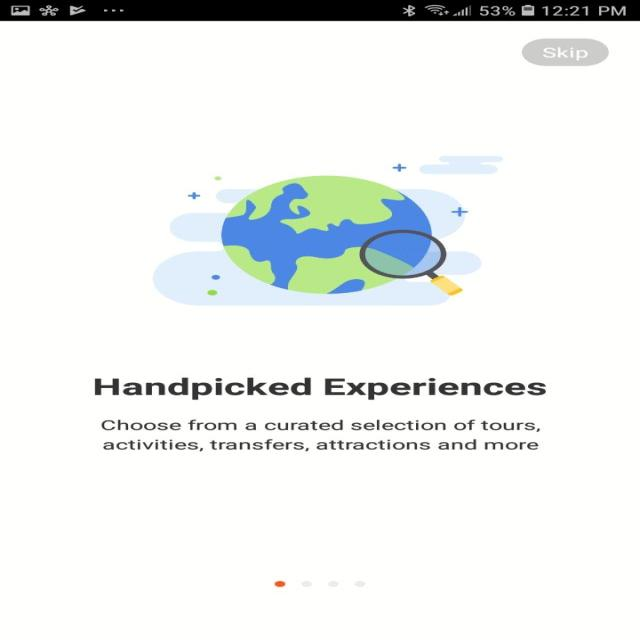Image: (152, 155, 503, 306)
Text: (100, 419, 540, 451), (93, 377, 546, 400)
TextButton: (521, 38, 609, 66)
